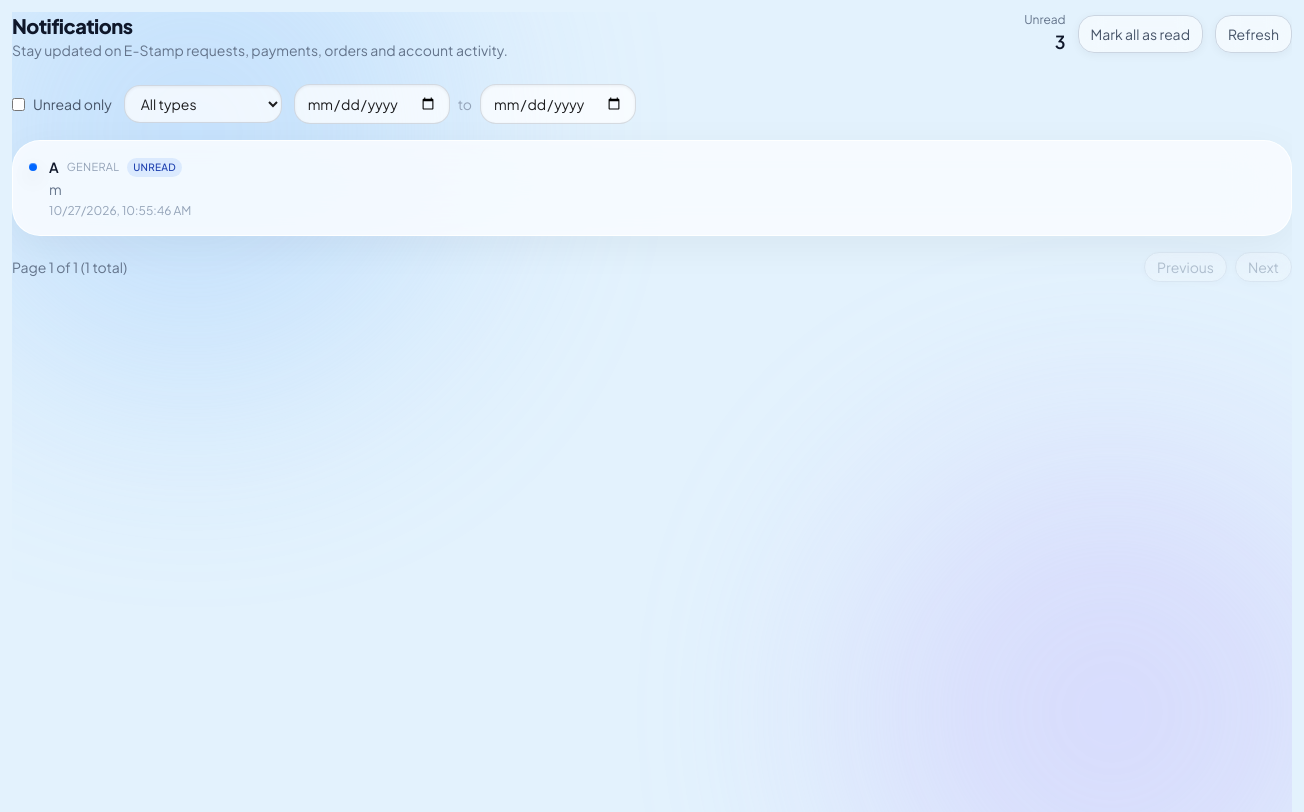
Test case: NotificationsPage - mark read / mark all read › only shows Mark all as read when there are unread notifications, and it reuses the real backend endpoint
The image size is (1304, 812).
Expected: the text "A" is shown, [49,157,59,177]
Click the button "Mark all as read". click: (1140, 34)
box: [1078,15,1203,53]
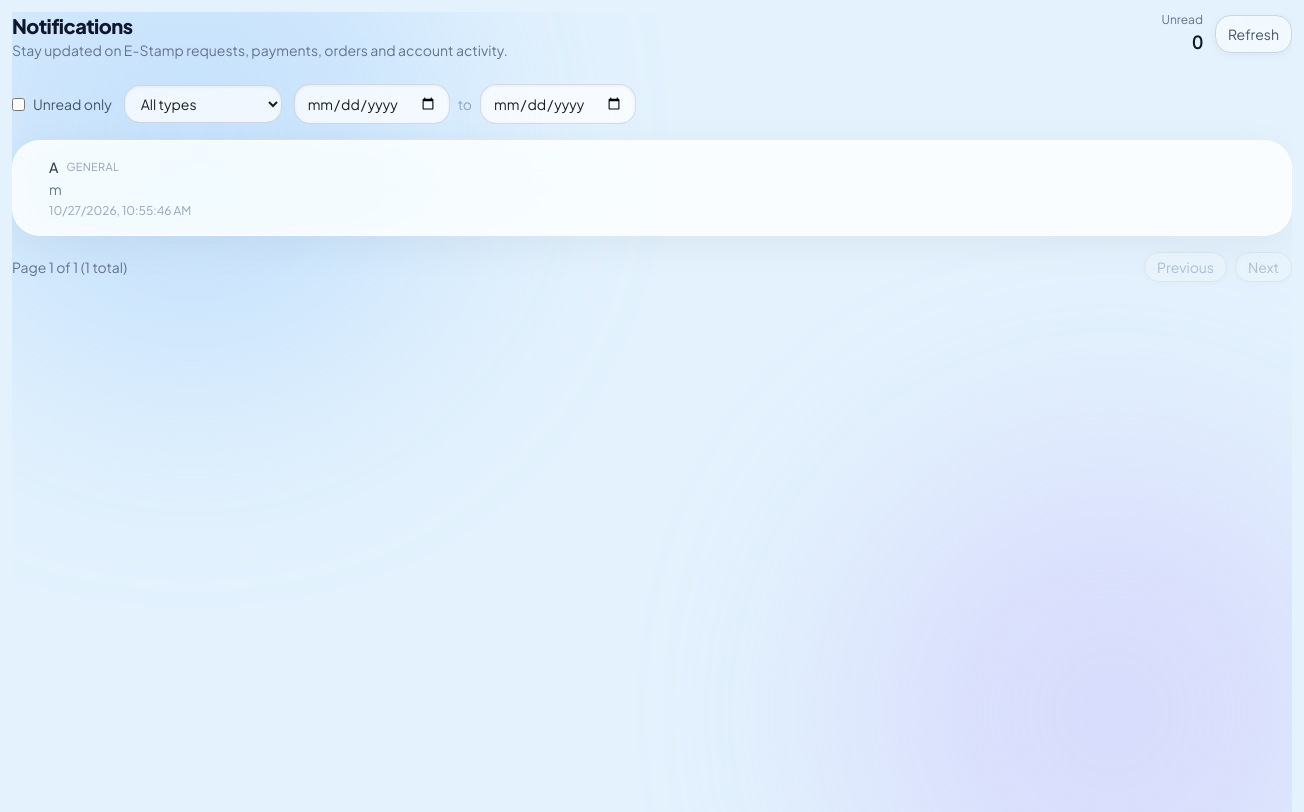
Now the button "Mark all as read" is gone
